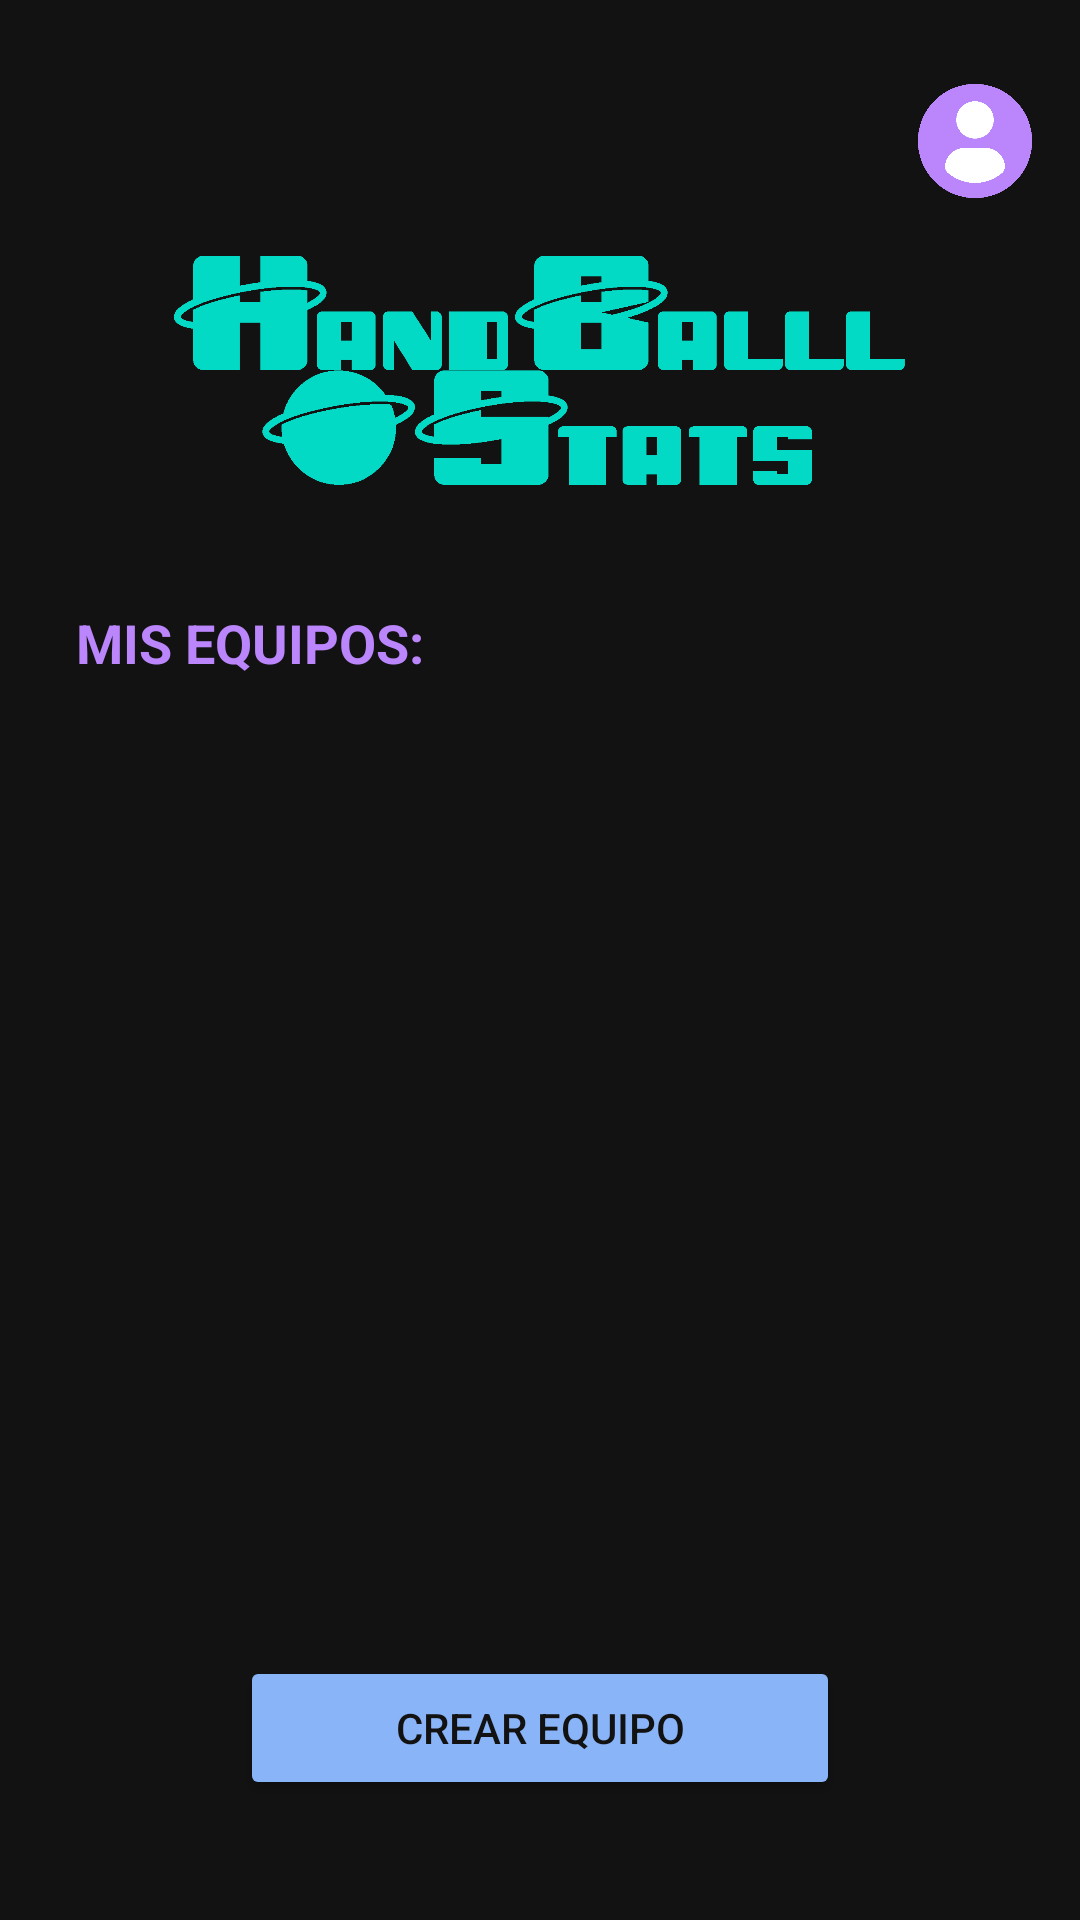

Screen size 1080w x 1920h. Icon name, then its center in pixels as (x,y):
Ir al perfil: (975,141)
